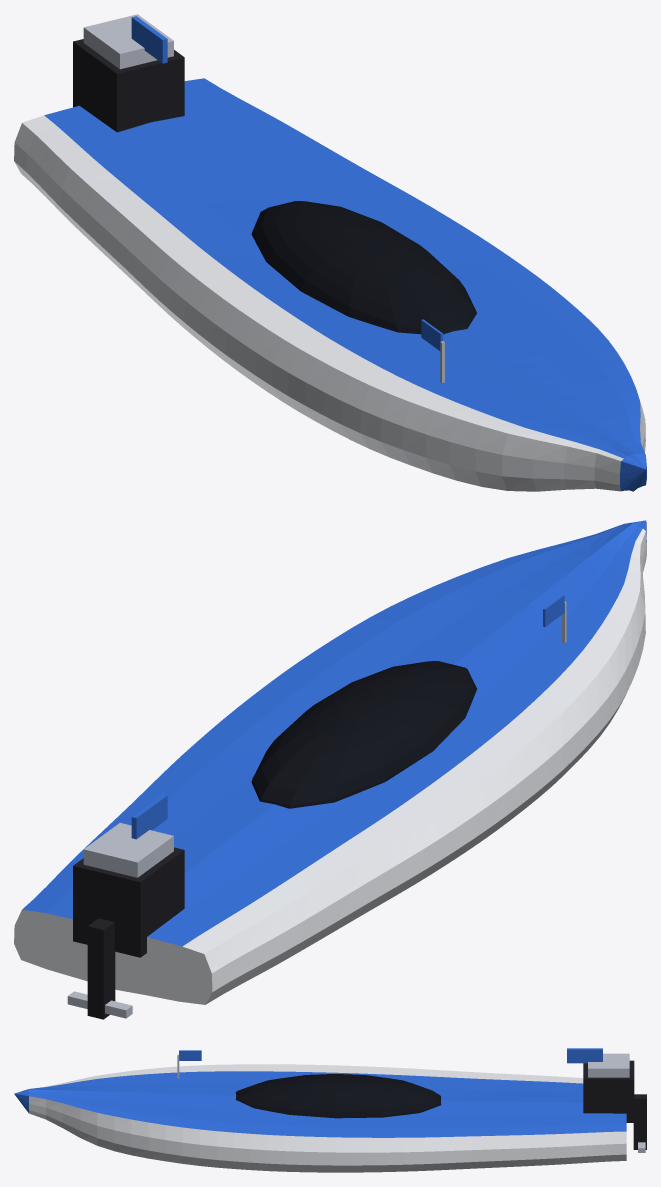
Rendered from boat.obj.
3 renders of one model, top to bottom at view 1: azimuth 30°, elevation 25°; view 2: azimuth 150°, elevation 25°; view 3: azimuth 270°, elevation 25°, orthographic. The views are drawn at different scales.
Bounding box in the file's own units: 1.24 × 0.73 × 4.24.
